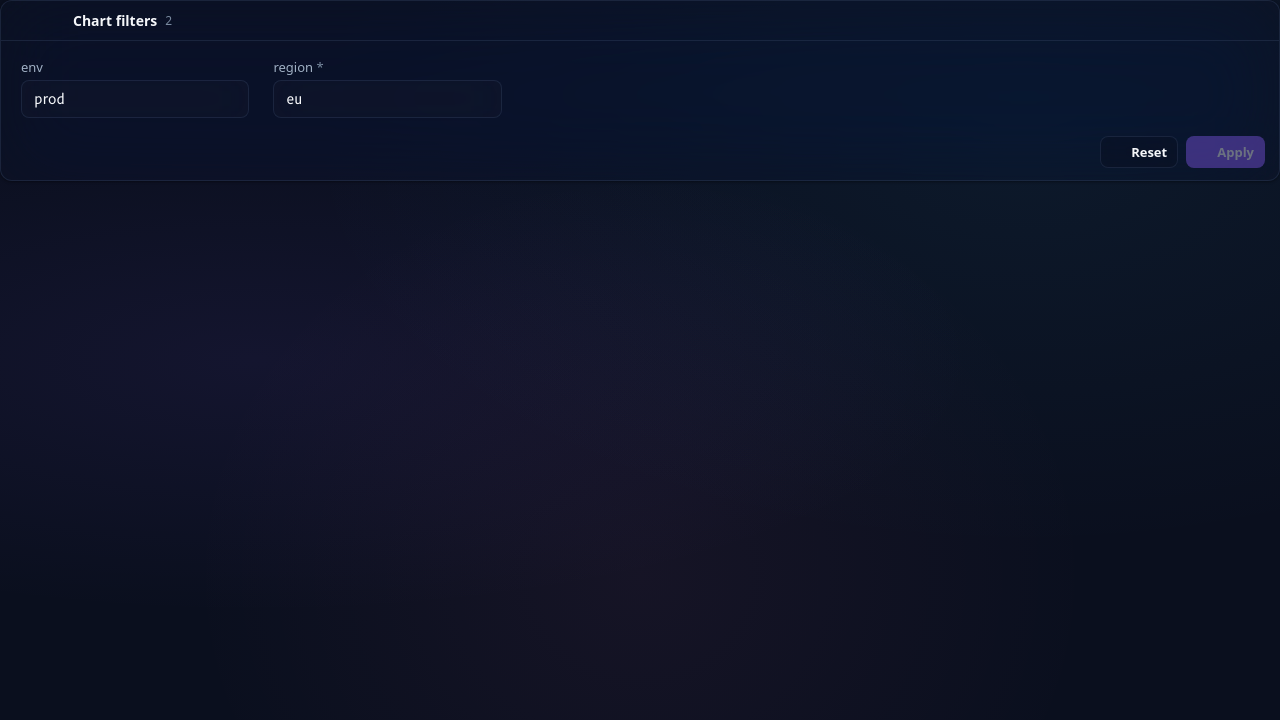
Scenario: Apply gates every re-run › goes back to disabled after applying
The image size is (1280, 720).
Replace the text in the field labelled "region *" with "us" at x=388, y=99, box [273, 80, 502, 118]
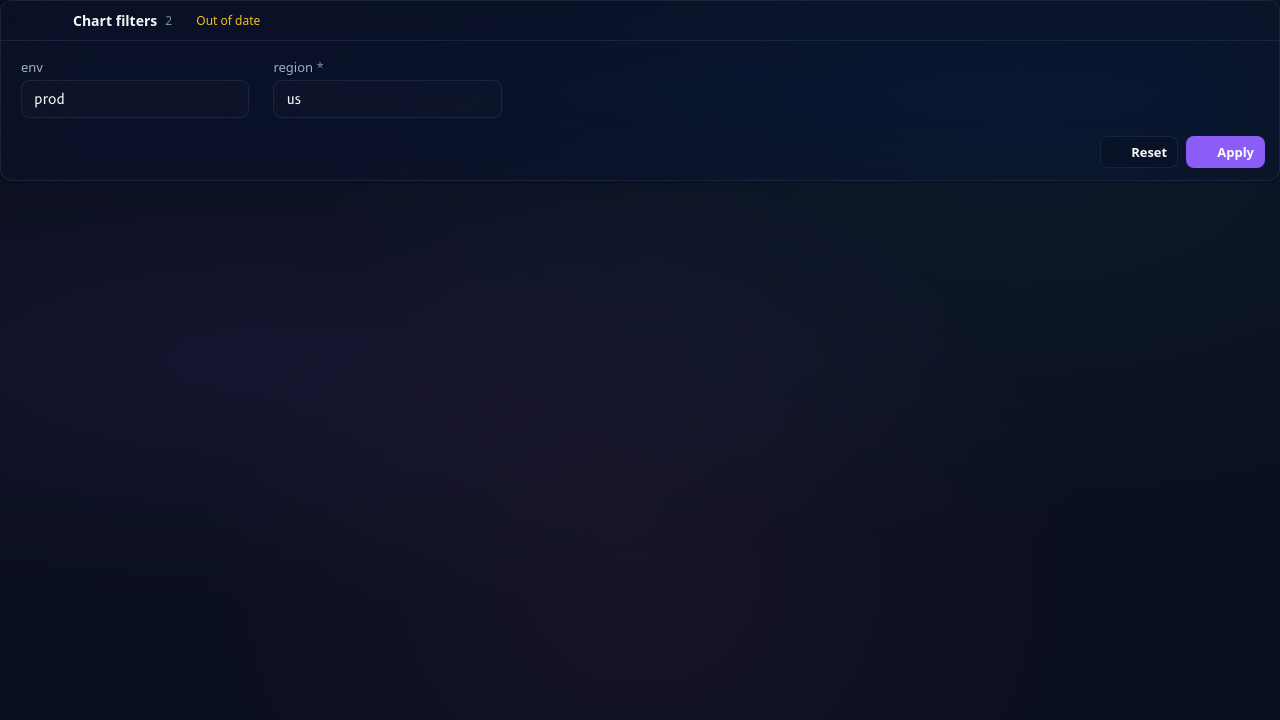
Click the button "Apply" at x=1226, y=152, box [1186, 136, 1265, 168]
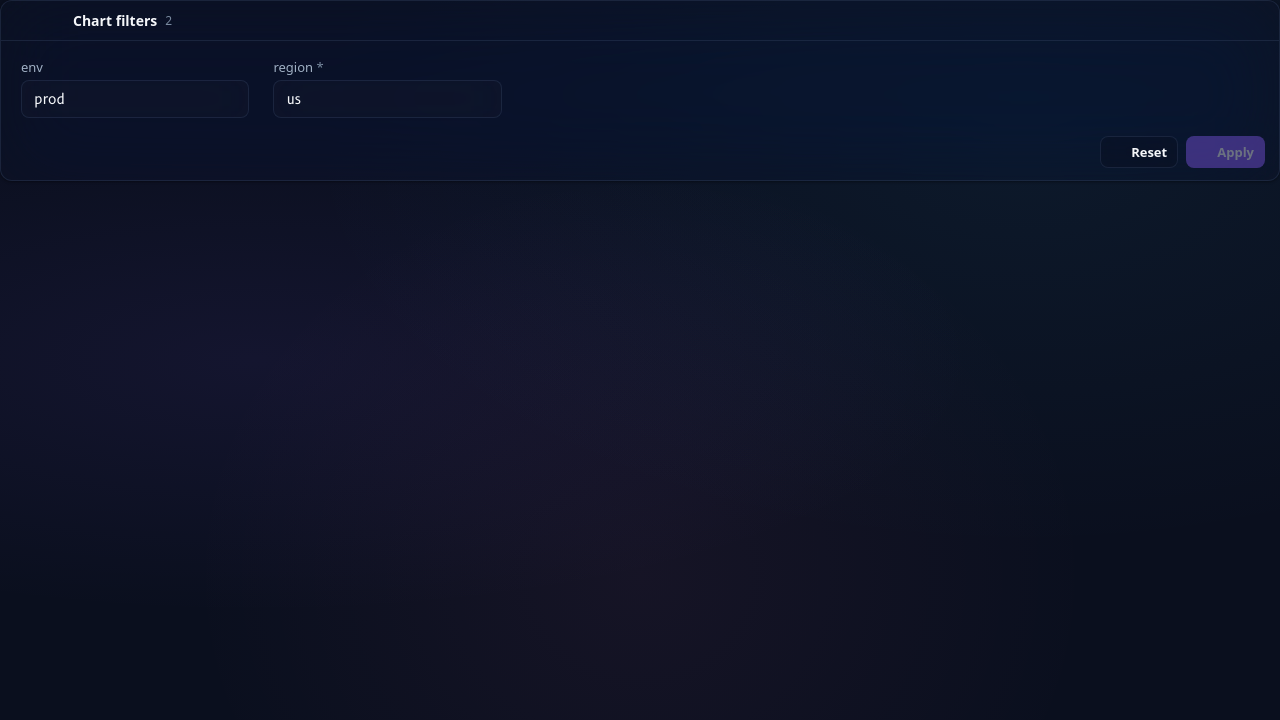
Expected: the button "Apply" is disabled, [1186, 136, 1265, 168]
